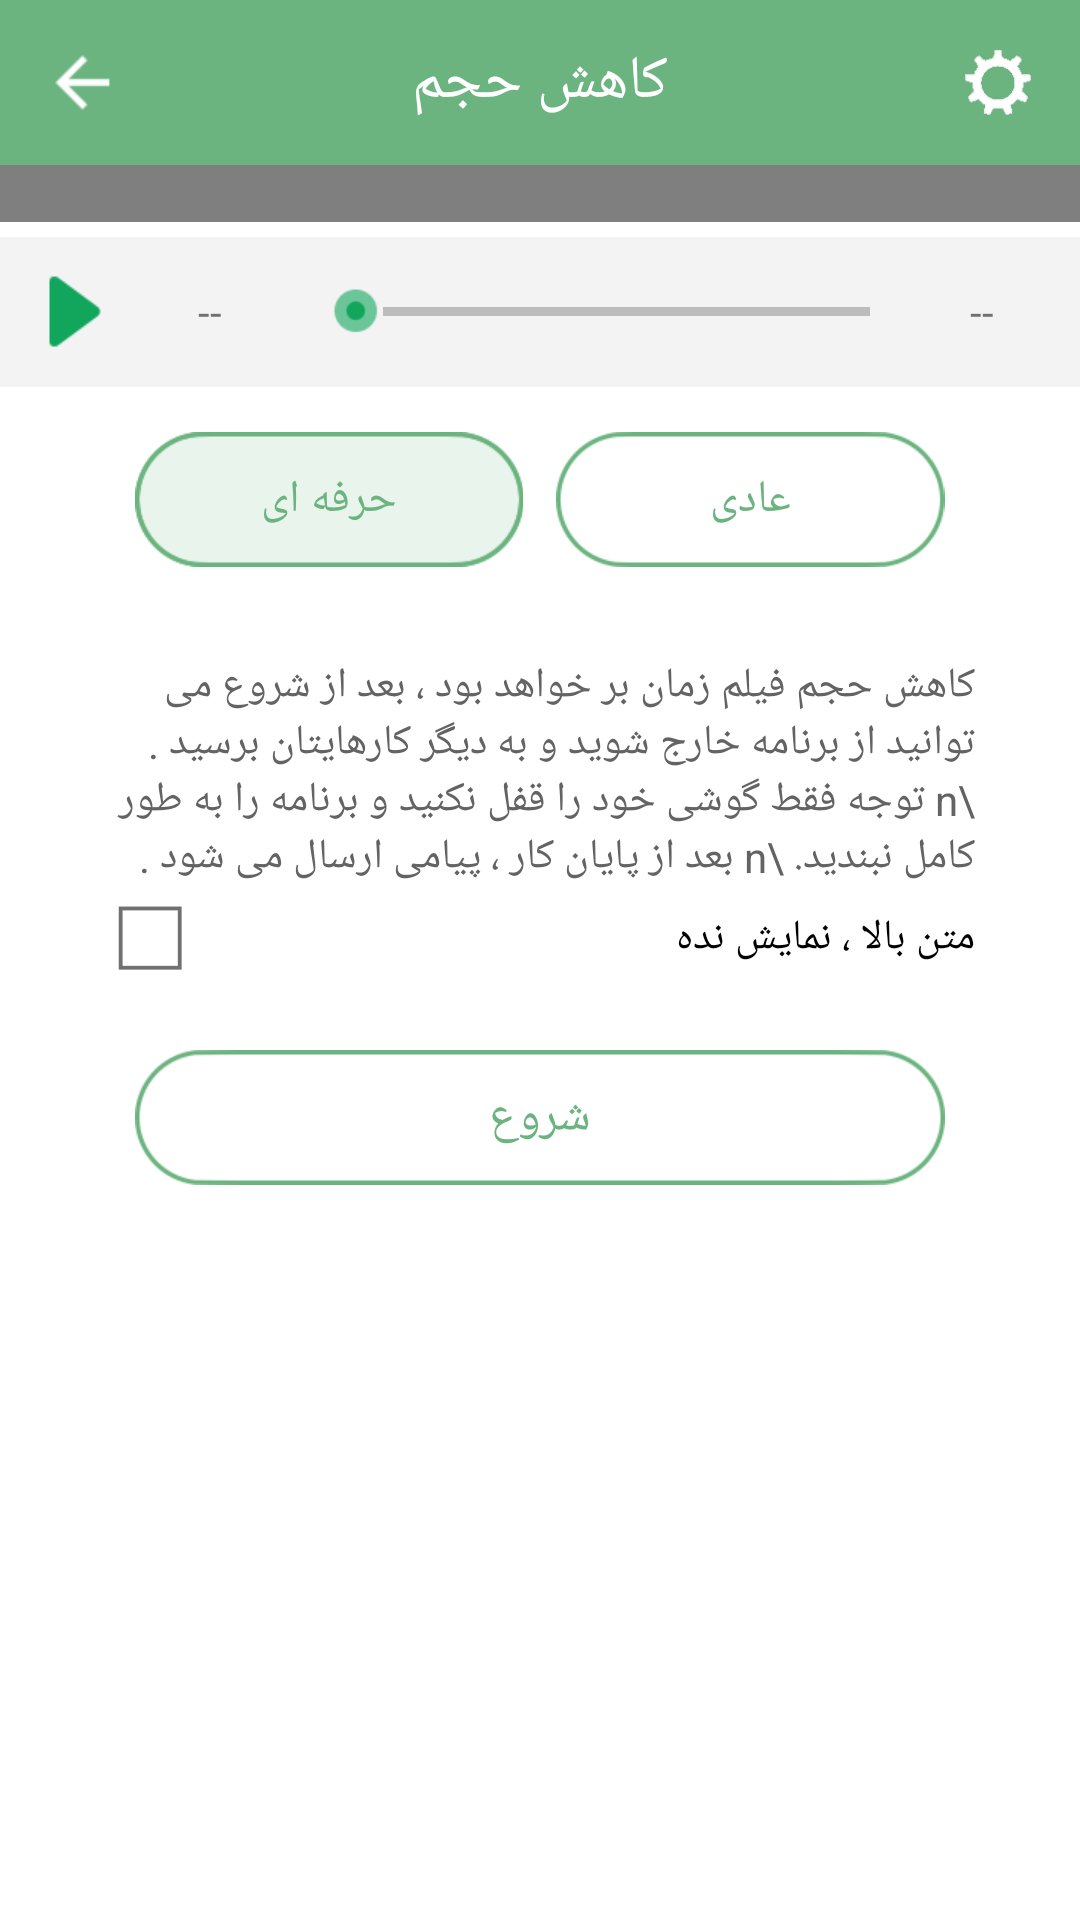

Where to tap for icons on this 1080x1920 app screen, as point (x, y):
back unpresed: point (82, 82)
play: point (75, 311)
settings: point (998, 82)
